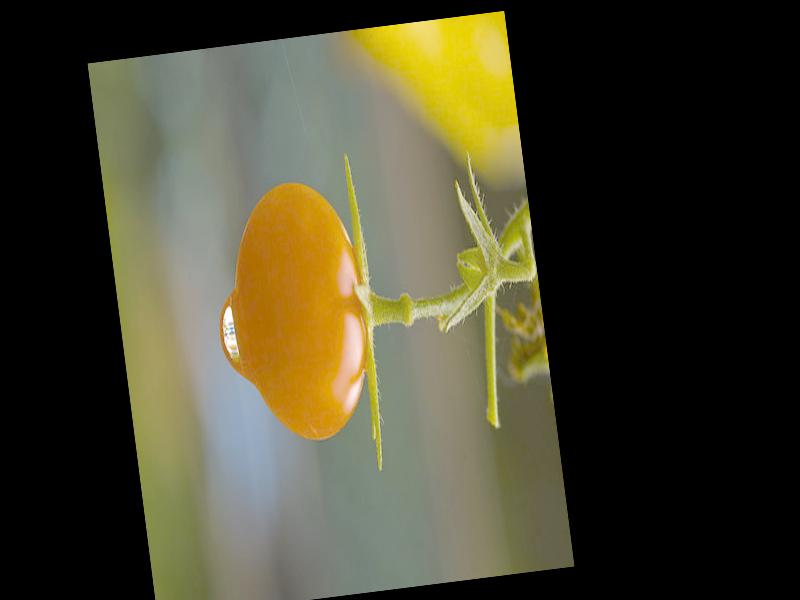Tomato: (222, 177, 381, 450)
